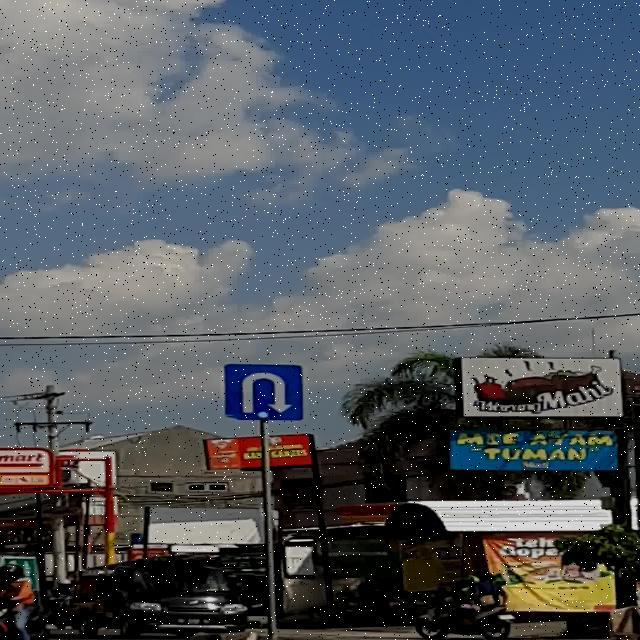Putar Balik: (223, 364, 304, 421)
